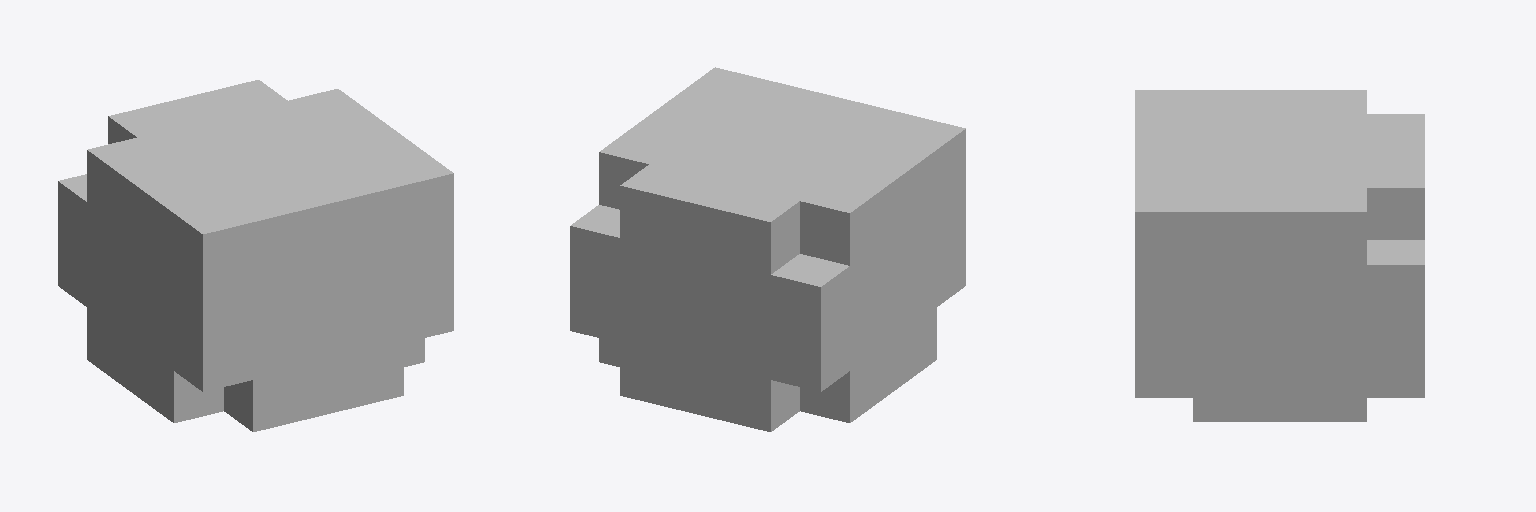
The model's file is Voxel Human FREE-0.obj.
3 views of the same model, side by side, from view 1: azimuth 30°, elevation 25°; view 2: azimuth 150°, elevation 25°; view 3: azimuth 270°, elevation 25° (orthographic).
Visible parts, largest first — view 1: object 1; view 2: object 1; view 3: object 1.
Boxes of the visible parts, <box> form: object 1: <box>58,80,453,431</box>; object 1: <box>570,67,965,431</box>; object 1: <box>1135,90,1424,421</box>.
Size of the model in its own units: 0.5 by 0.4 by 0.5.